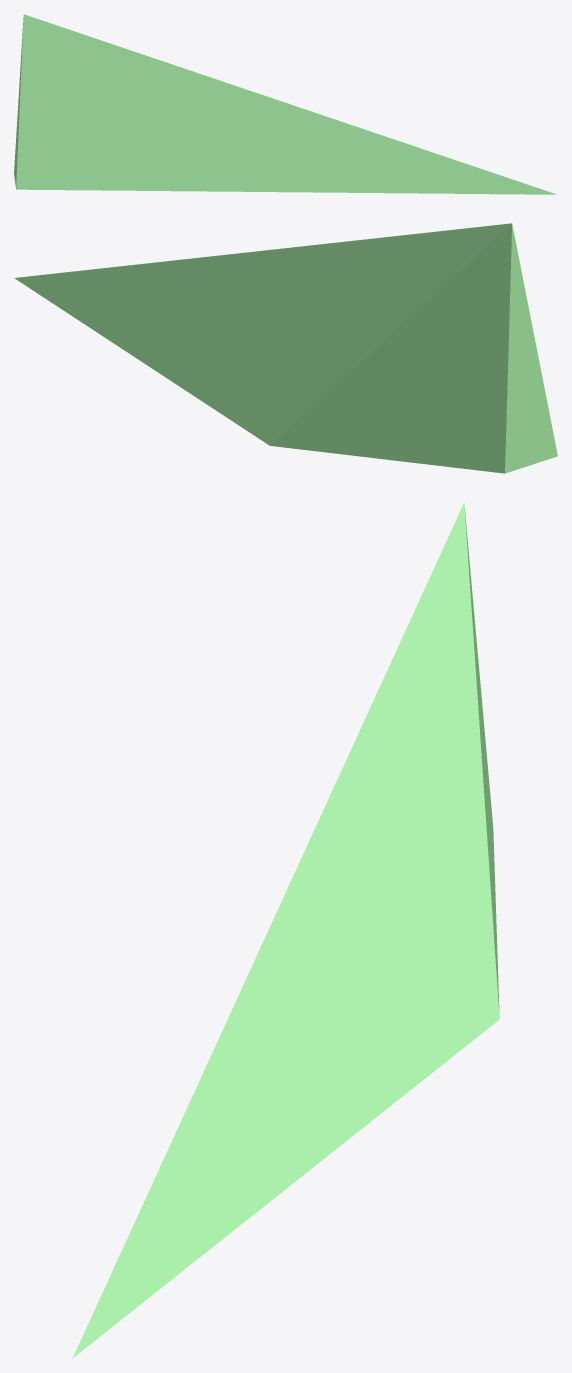
Rendered from UMIRobot_UMIRobot_link_3_convex_coll_23.dae.
3 views of the same model, one above another, from view 1: azimuth 30°, elevation 25°; view 2: azimuth 150°, elevation 25°; view 3: azimuth 270°, elevation 25° (orthographic). The views are drawn at different scales.
Visible parts, largest first — view 1: node; view 2: node; view 3: node.
Boxes of the visible parts, box(x1,y1,x2,y2) form: node: box(14, 14, 556, 194); node: box(14, 223, 557, 473); node: box(72, 503, 499, 1358).
Size of the model in its own units: 0.025 by 0.0113 by 0.0102.
